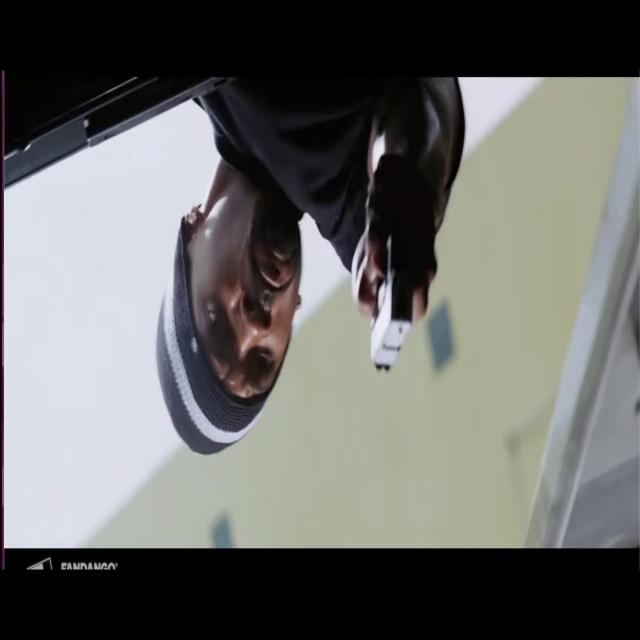weapons: (354, 178, 436, 392)
